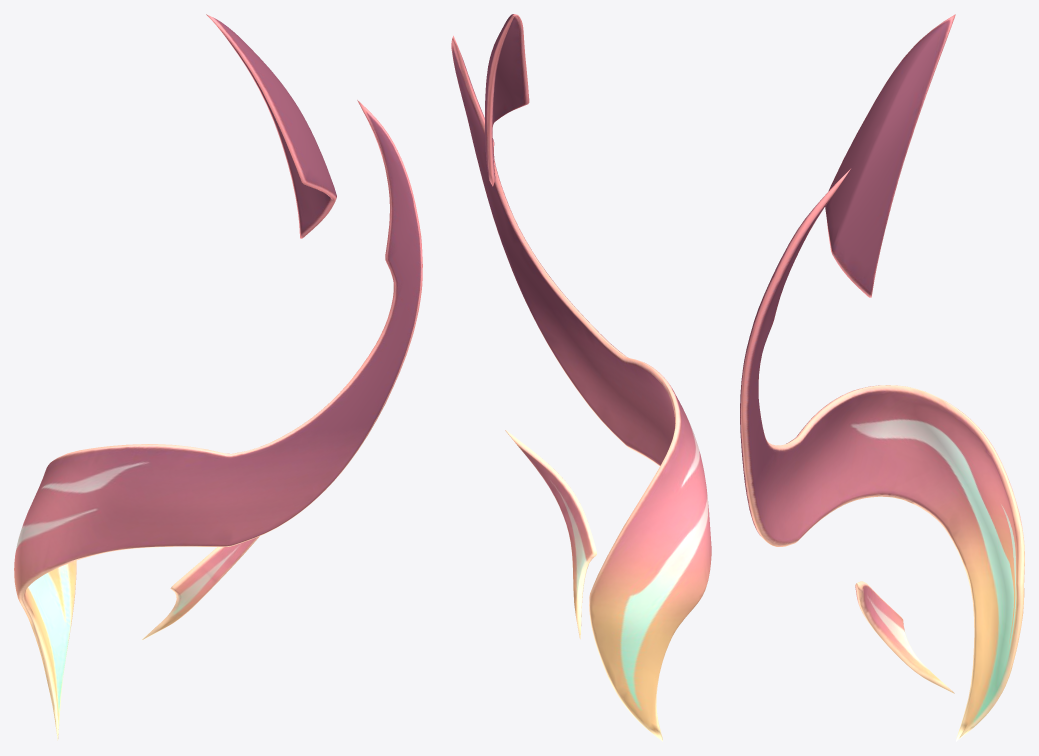
Rendered from flame_vegetation_01_c.glb.
The picture shows the model from 3 angles, left to right: view 1: azimuth 30°, elevation 25°; view 2: azimuth 150°, elevation 25°; view 3: azimuth 270°, elevation 25°; orthographic projection. The views are drawn at different scales.
Parts seen in each view (by area): view 1: SM_KC_FLAME_VEGETATION_01_C; view 2: SM_KC_FLAME_VEGETATION_01_C; view 3: SM_KC_FLAME_VEGETATION_01_C.
Boxes of the visible parts, left/top/right/bottom form: SM_KC_FLAME_VEGETATION_01_C: left=14, top=14, right=422, bottom=740; SM_KC_FLAME_VEGETATION_01_C: left=451, top=14, right=711, bottom=741; SM_KC_FLAME_VEGETATION_01_C: left=740, top=14, right=1024, bottom=741.
Bounding box in the file's own units: 2.2 × 4.54 × 1.44.
Materials: 1 (1 with a texture image).
